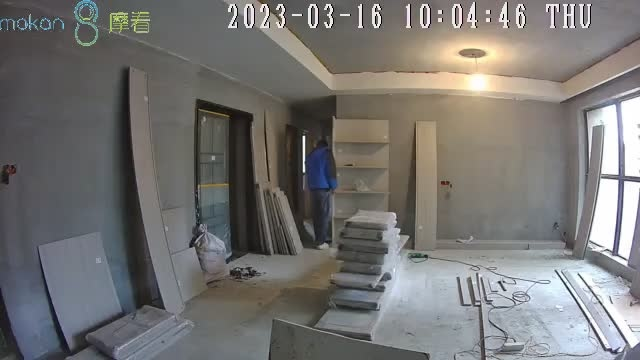people: (304, 139, 337, 250)
window: (584, 96, 640, 263)
